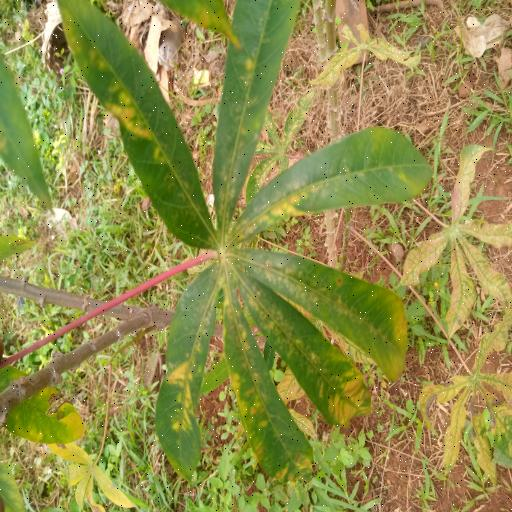Cassava_Mosaic: (58, 0, 449, 488)
